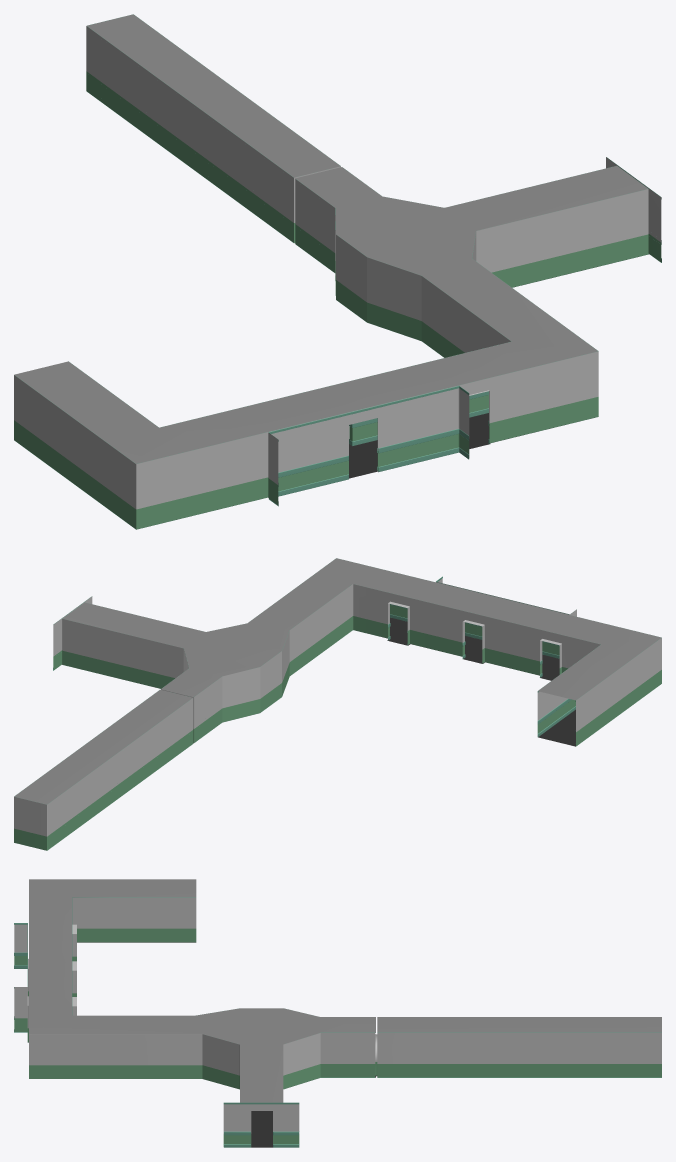
The model's file is couloir_hopital.fbx.
3 views of the same model, one above another, from view 1: azimuth 30°, elevation 25°; view 2: azimuth 150°, elevation 25°; view 3: azimuth 270°, elevation 25° (orthographic). The views are drawn at different scales.
Parts seen in each view (by area): view 1: murs, plafond, sol; view 2: murs, plafond, sol; view 3: murs, plafond, sol.
Part boxes in pixels (x1,y1,x2,y2): murs: [14, 14, 661, 529]; plafond: [14, 14, 647, 464]; sol: [136, 254, 648, 529]; murs: [14, 559, 661, 850]; plafond: [14, 558, 661, 804]; sol: [62, 617, 575, 746]; murs: [14, 897, 661, 1147]; plafond: [29, 879, 661, 1102]; sol: [28, 942, 376, 1147].
Size of the model in its own units: 42.6 by 4.07 by 52.2.
